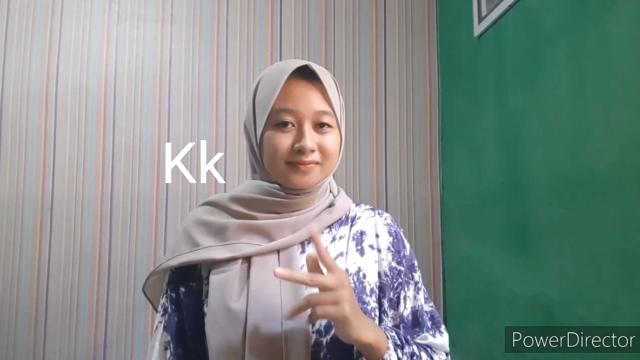K: (274, 229, 370, 343)
